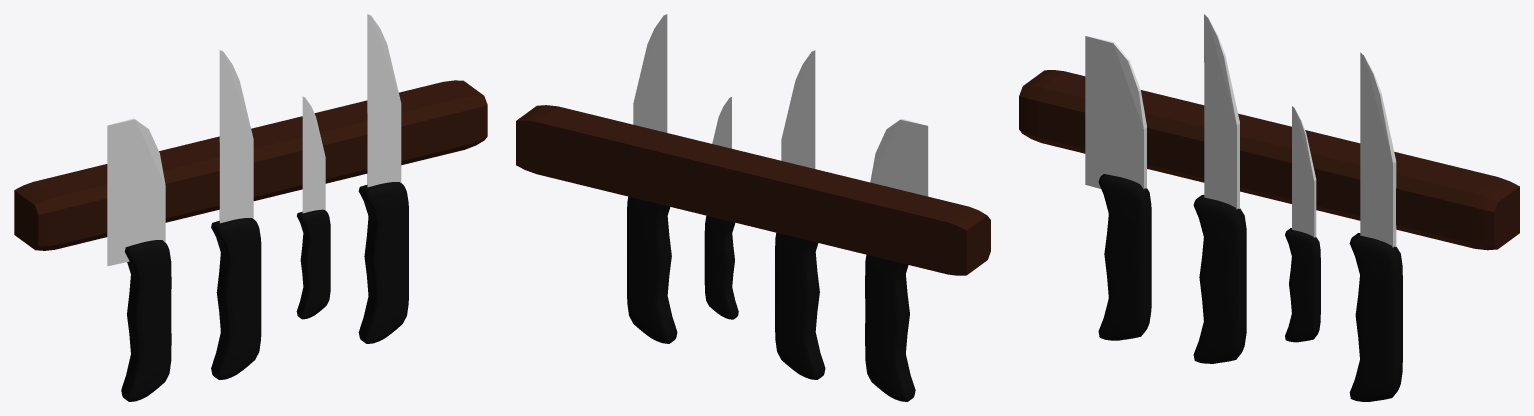
File: knifeRack.fbx
The picture shows the model from 3 angles, left to right: view 1: azimuth 30°, elevation 25°; view 2: azimuth 150°, elevation 25°; view 3: azimuth 330°, elevation 25°; orthographic projection. The views are drawn at different scales.
Parts seen in each view (by area): view 1: rack, knifeEdge, knifeHold.001, knifeHold.003, knifeHold, knifeEdge.001, knifeEdge.003, knifeHold.002, knifeEdge.002; view 2: rack, knifeHold, knifeHold.001, knifeHold.003, knifeEdge, knifeEdge.003, knifeEdge.001, knifeHold.002, knifeEdge.002; view 3: rack, knifeEdge, knifeHold.001, knifeHold.003, knifeHold, knifeEdge.003, knifeEdge.001, knifeHold.002, knifeEdge.002.
Boxes of the visible parts, x1,y1,x2,y2 form: rack: (14, 80, 487, 250); knifeEdge: (107, 118, 165, 266); knifeHold.001: (211, 218, 261, 379); knifeHold.003: (358, 182, 408, 343); knifeHold: (121, 240, 171, 401); knifeEdge.001: (219, 50, 253, 223); knifeEdge.003: (367, 14, 401, 187); knifeHold.002: (296, 209, 330, 319); knifeEdge.002: (302, 96, 325, 213); rack: (516, 105, 990, 275); knifeHold: (865, 254, 915, 401); knifeHold.001: (775, 232, 825, 379); knifeHold.003: (627, 196, 677, 343); knifeEdge: (870, 119, 928, 196); knifeEdge.003: (633, 14, 667, 132); knifeEdge.001: (781, 50, 815, 168); knifeHold.002: (704, 216, 738, 319); knifeEdge.002: (712, 97, 731, 148); rack: (1019, 70, 1519, 250); knifeEdge: (1085, 36, 1146, 189); knifeHold.001: (1193, 194, 1246, 363); knifeHold.003: (1349, 233, 1402, 401); knifeHold: (1098, 174, 1151, 340); knifeEdge.003: (1360, 52, 1396, 247); knifeEdge.001: (1204, 14, 1239, 209); knifeHold.002: (1285, 228, 1320, 342); knifeEdge.002: (1292, 106, 1316, 237).
Bounding box in the file's own units: 50 × 34.76 × 6.49.
